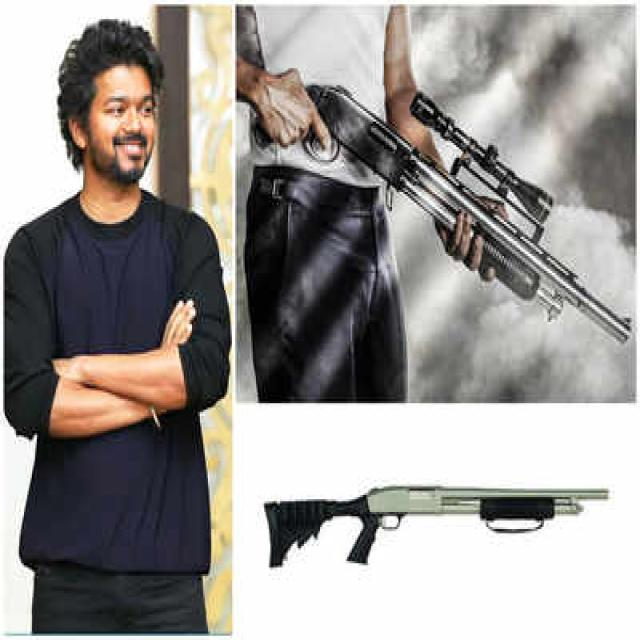Weapon: (256, 68, 640, 352), (248, 476, 624, 578)
